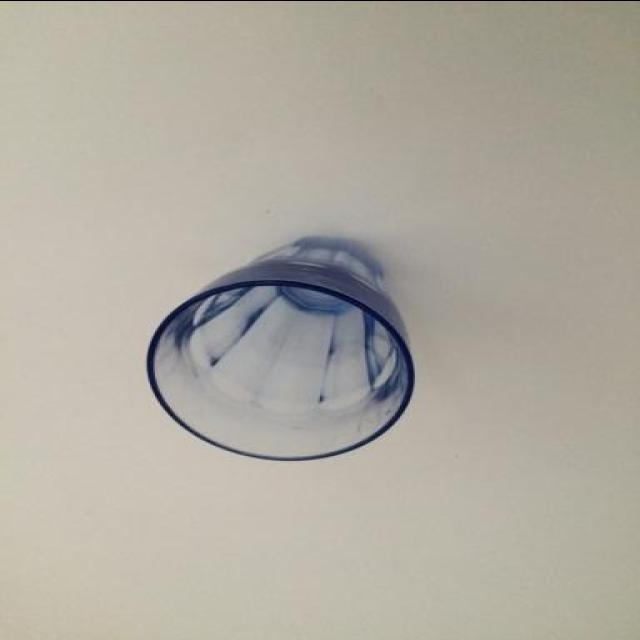litter: (145, 242, 413, 464)
